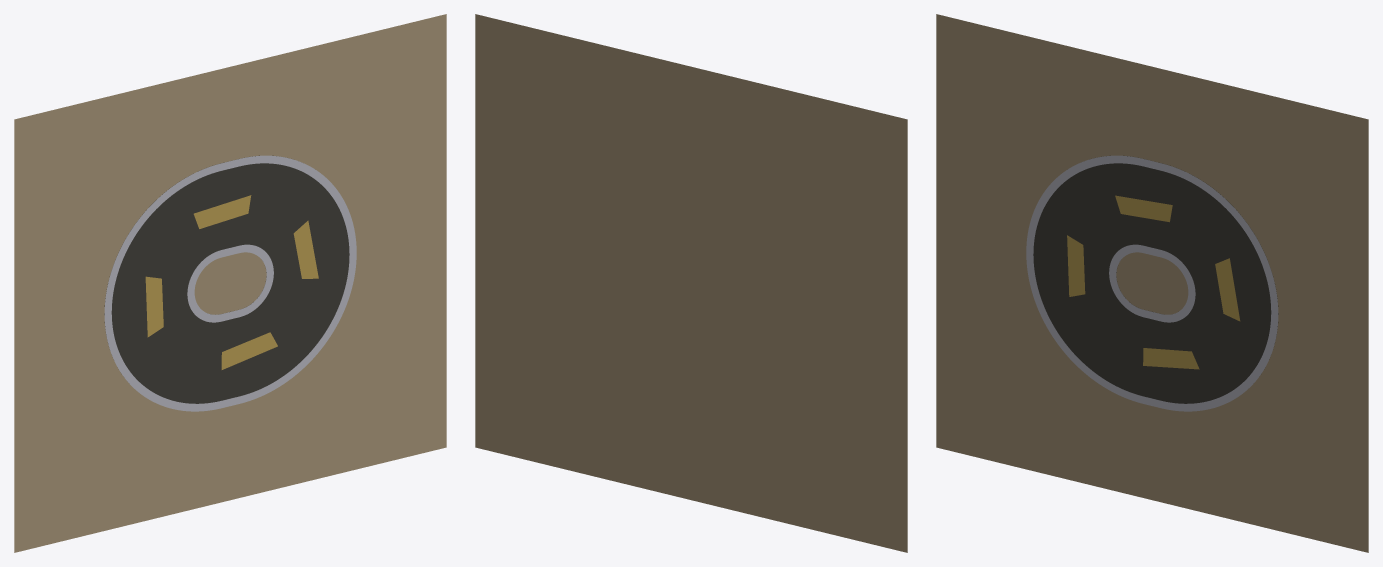
Rendered from track.obj.
3 renders of one model, left to right at view 1: azimuth 30°, elevation 25°; view 2: azimuth 150°, elevation 25°; view 3: azimuth 330°, elevation 25°, orthographic.
Bounding box in the file's own units: 2.4 × 2.3 × 0.0025.
